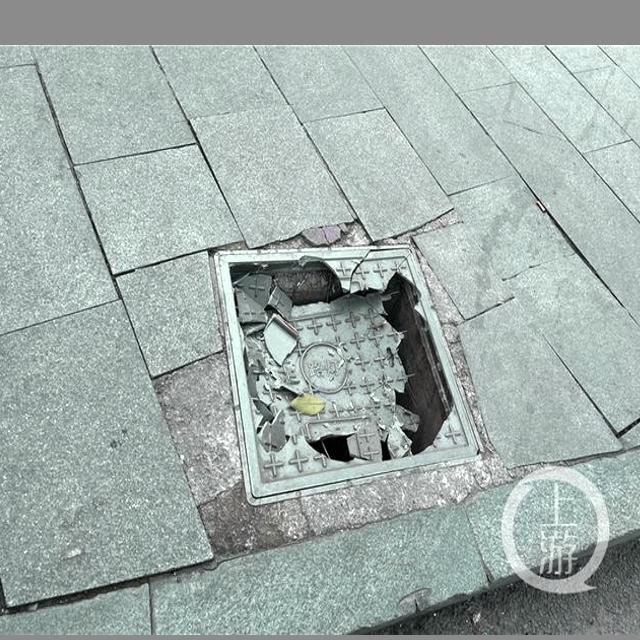broke: (190, 225, 515, 518)
